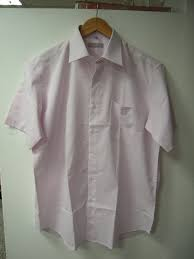C_shirt: (6, 24, 178, 249)
